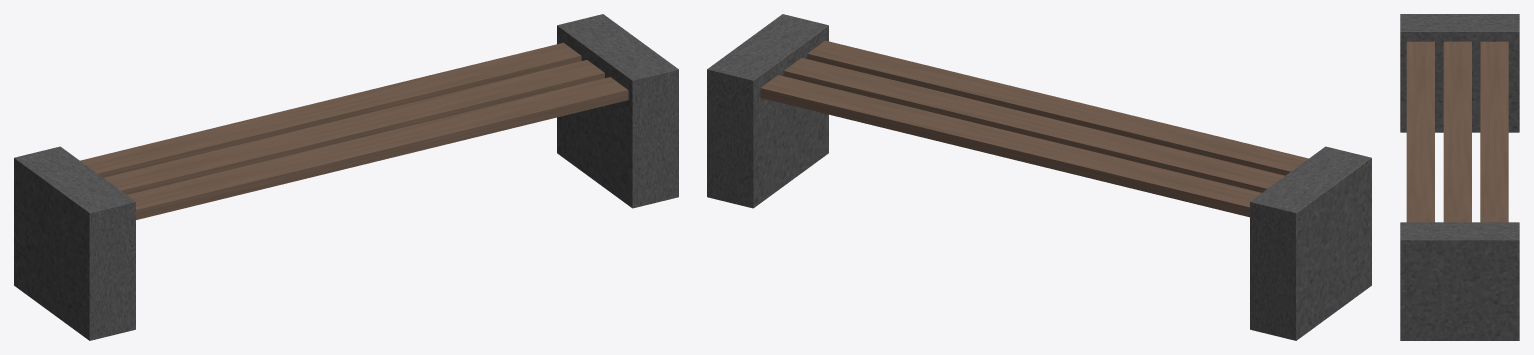
The model's file is bench_3.gltf.
3 renders of one model, left to right at view 1: azimuth 30°, elevation 25°; view 2: azimuth 150°, elevation 25°; view 3: azimuth 270°, elevation 25°, orthographic. The views are drawn at different scales.
Visible parts, largest first — view 1: Cube.001, Cube; view 2: Cube.001, Cube; view 3: Cube, Cube.001.
Part boxes in pixels (x1,y1,x2,y2): Cube.001: (80,42,628,219); Cube: (14,14,678,340); Cube.001: (760,40,1308,217); Cube: (707,14,1371,340); Cube: (1400,14,1519,340); Cube.001: (1406,41,1508,222).
Bounding box in the file's own units: 2.26 × 0.4694 × 0.5027.
Materials: 1 (1 with a texture image).
